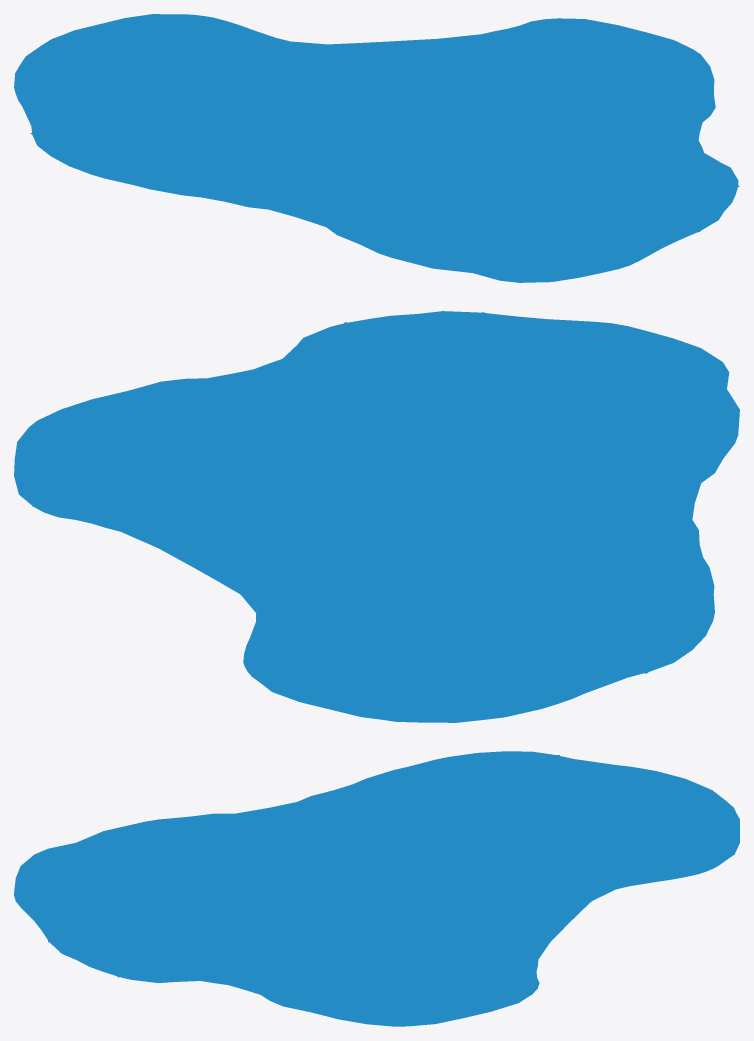
The model's file is BigWater.fbx.
3 views of the same model, one above another, from view 1: azimuth 30°, elevation 25°; view 2: azimuth 150°, elevation 25°; view 3: azimuth 270°, elevation 25° (orthographic). The views are drawn at different scales.
Visible parts, largest first — view 1: WATER02; view 2: WATER02; view 3: WATER02.
Part boxes in pixels (x1,y1,x2,y2): WATER02: [14, 14, 739, 282]; WATER02: [14, 311, 739, 722]; WATER02: [14, 751, 739, 1026].
Bounding box in the file's own units: 2293 × 0.000416 × 2554.
